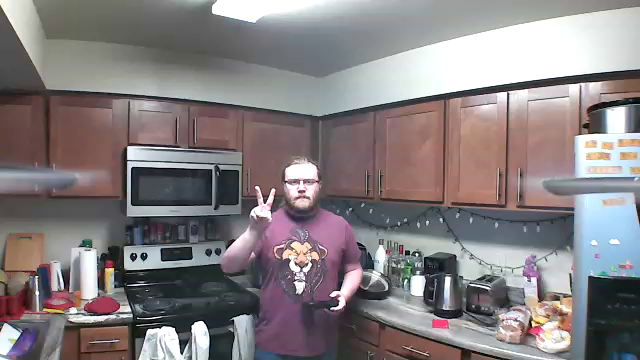peace: (246, 182, 280, 229)
